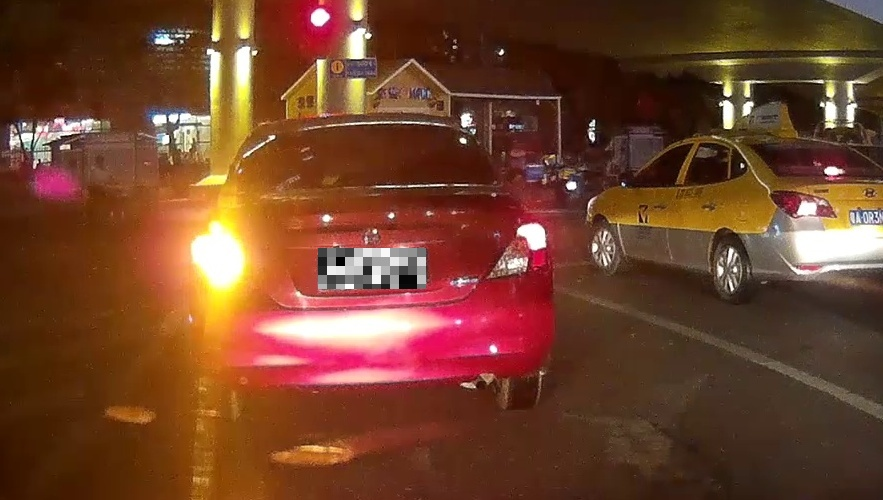L_light: (197, 226, 258, 290)
R_light: (485, 220, 549, 279)
T_light: (342, 122, 380, 134)
night-left: (192, 112, 554, 423)
plate_1: (318, 248, 426, 289)
